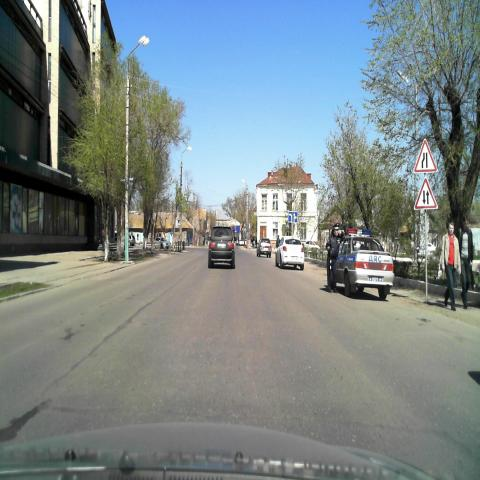1_20_3: (412, 138, 438, 175)
1_21: (413, 178, 438, 212)
